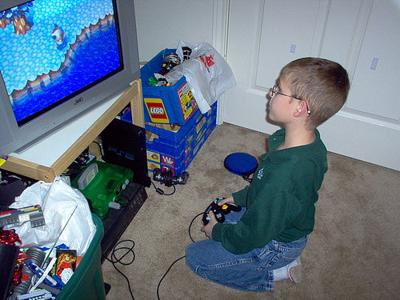person: (186, 58, 350, 289)
